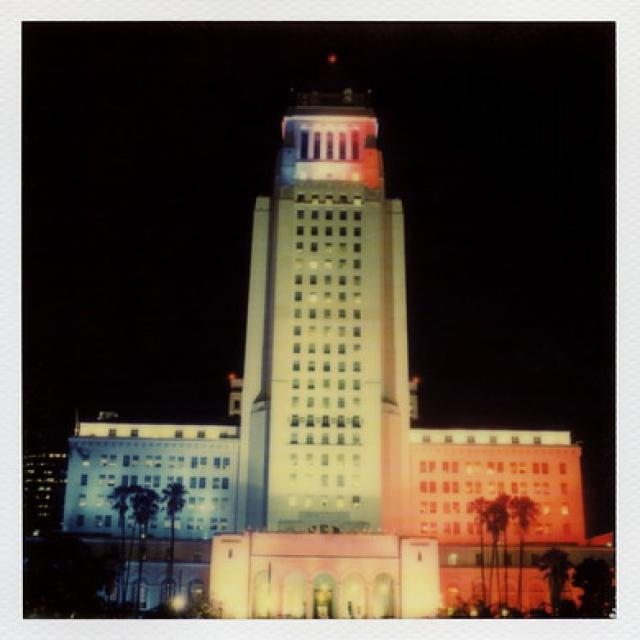building: (234, 96, 416, 547)
